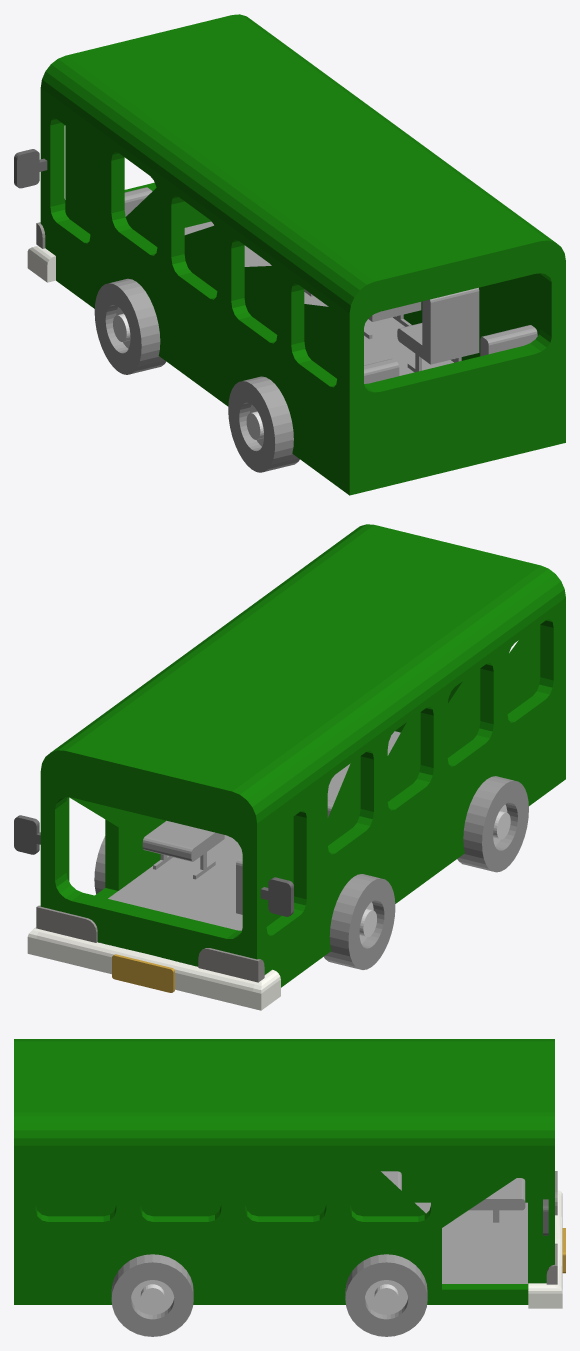
The model's file is BUS(ch).fbx.
The picture shows the model from 3 angles, top to bottom: view 1: azimuth 30°, elevation 25°; view 2: azimuth 150°, elevation 25°; view 3: azimuth 270°, elevation 25°; orthographic projection. The views are drawn at different scales.
Visible parts, largest first — view 1: BUS, BUS_wheelLB, BUS_wheelLF; view 2: BUS, BUS_wheelLB, BUS_wheelLF; view 3: BUS, BUS_wheelRB, BUS_wheelRF.
Boxes of the visible parts, box(x1,y1,x2,y2) form: BUS: box(14, 14, 565, 495); BUS_wheelLB: box(228, 376, 299, 472); BUS_wheelLF: box(94, 278, 166, 374); BUS: box(14, 524, 565, 1010); BUS_wheelLB: box(457, 776, 528, 872); BUS_wheelLF: box(324, 874, 395, 969); BUS: box(14, 1039, 565, 1308); BUS_wheelRB: box(111, 1254, 193, 1336); BUS_wheelRF: box(345, 1254, 427, 1336).
Bounding box in the file's own units: 157 × 127 × 309.
